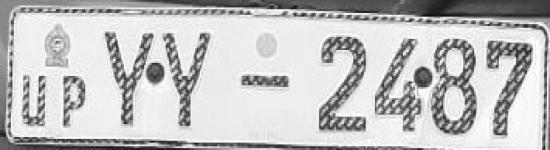-: (236, 63, 297, 100)
2: (310, 27, 373, 139)
4: (370, 26, 428, 139)
7: (480, 31, 538, 145)
8: (427, 32, 479, 144)
P: (56, 73, 88, 130)
U: (17, 71, 52, 133)
Y: (95, 24, 158, 131), (160, 27, 215, 137)
